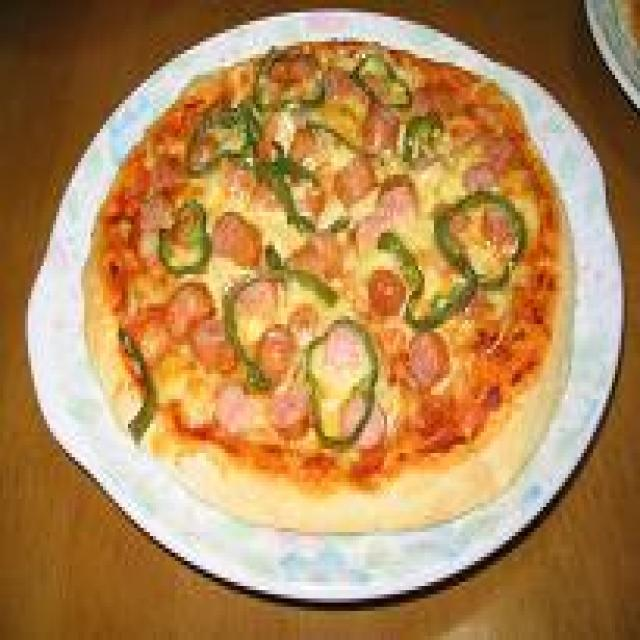Pizza: (79, 41, 578, 512)
